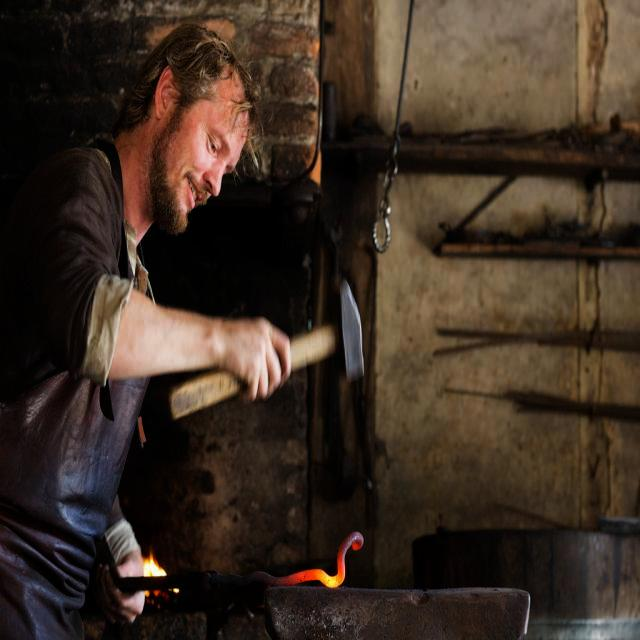hammer: (165, 270, 373, 443)
